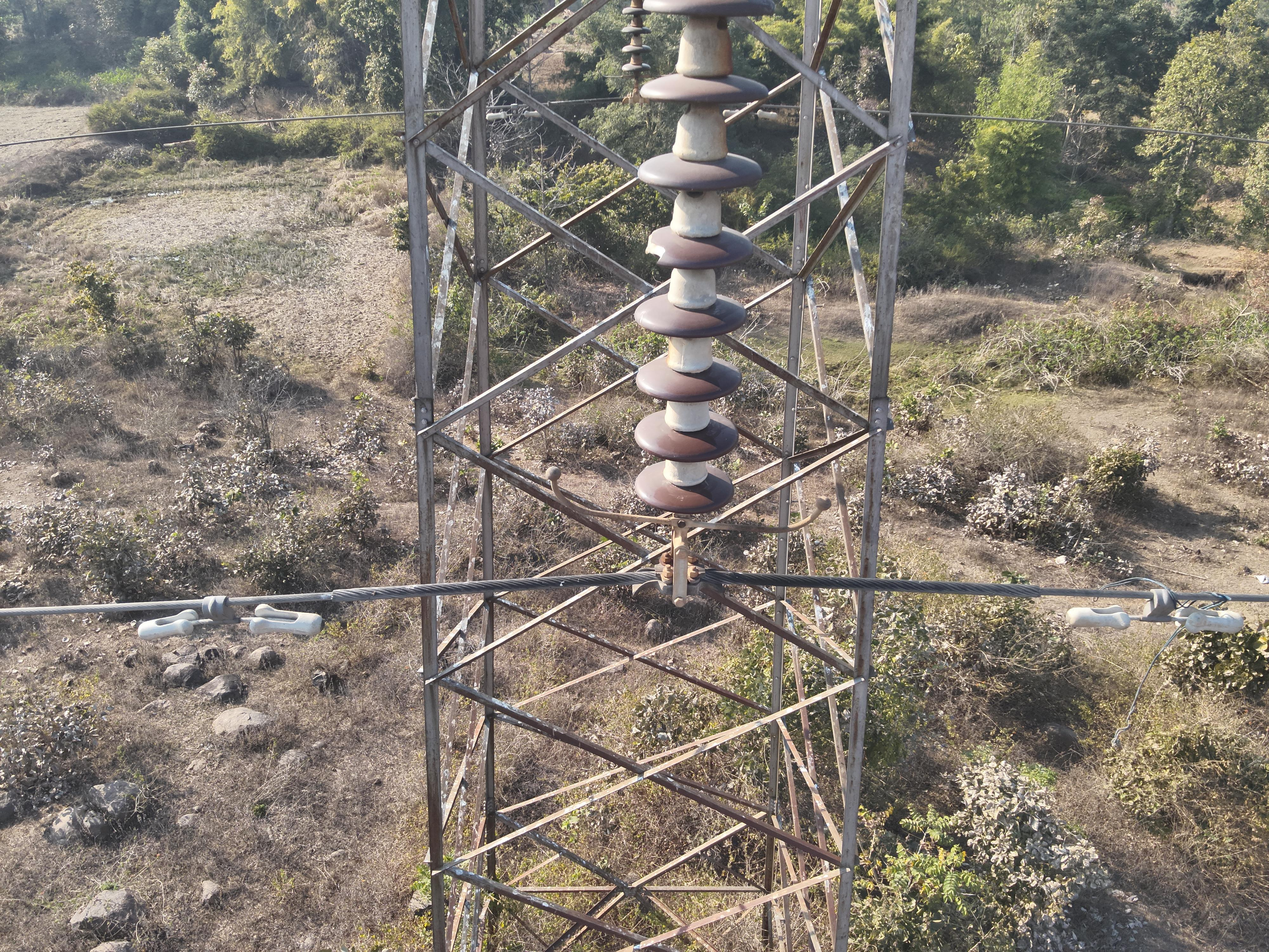broken_insulator: (636, 215, 757, 283)
